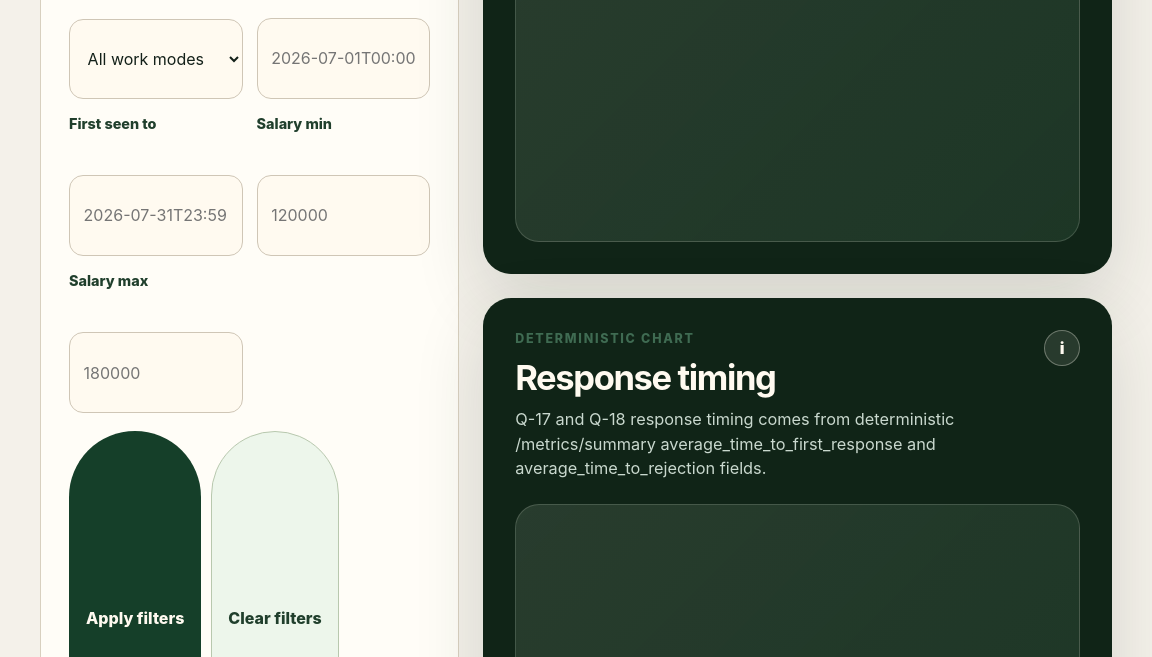
Test case: DashboardPage › explains the response timing chart through an accessible info control
(page scrolled)
Step 1. Click the button named "About Response timing" → [1062, 348], box x1=1044 y1=330 x2=1080 y2=366
(page scrolled)
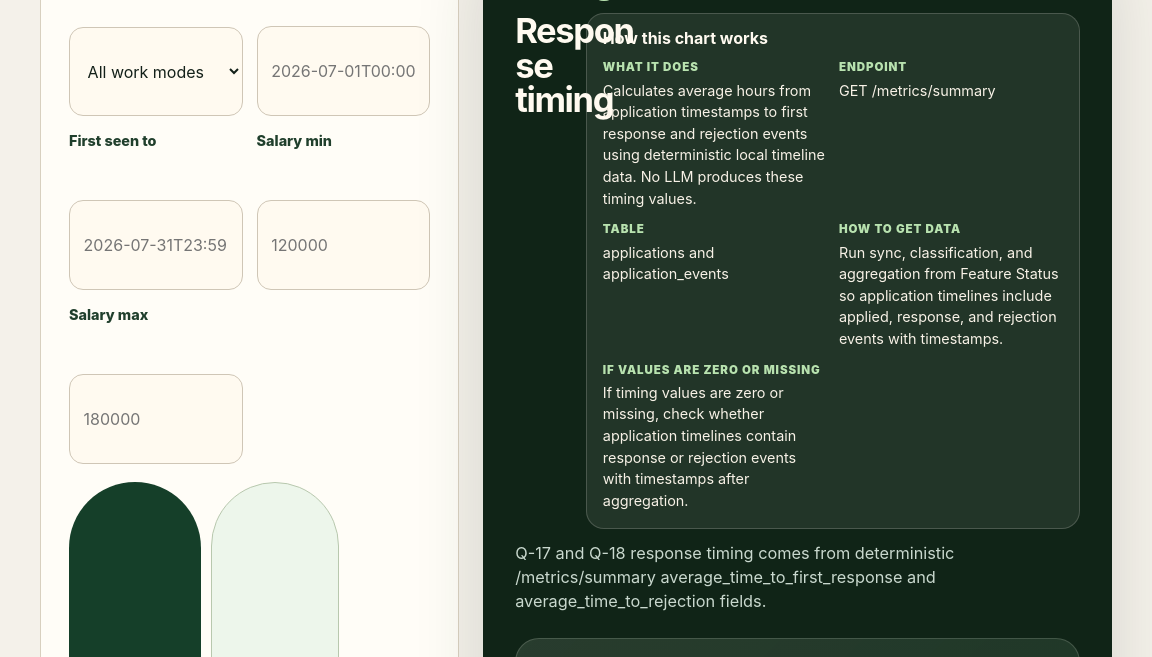
Expected: the heading "How this chart works" is shown, x1=603 y1=28 x2=768 y2=48
Expected: the text "GET /metrics/summary" is shown, x1=839 y1=82 x2=996 y2=99
Expected: the text "applications and application_events" is shown, x1=603 y1=244 x2=729 y2=282
